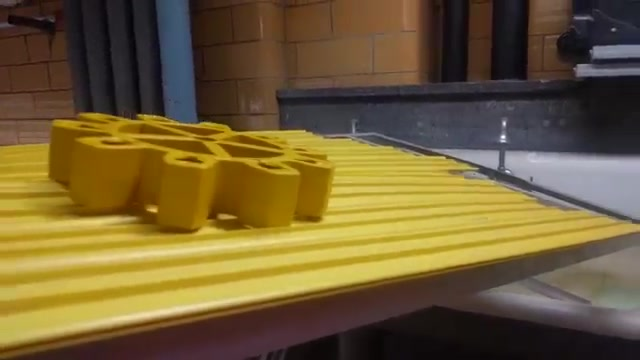gear: (40, 91, 343, 238)
